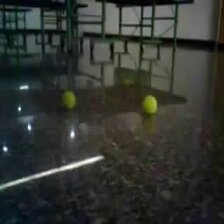tennis: (142, 95, 158, 115), (61, 90, 76, 109)
